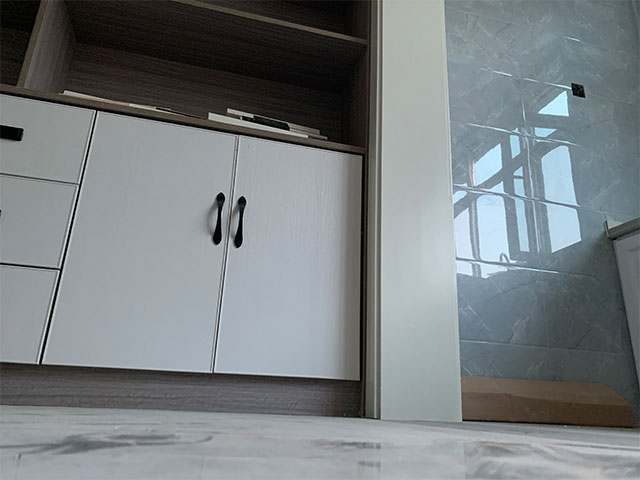cabinet: (1, 86, 366, 415)
